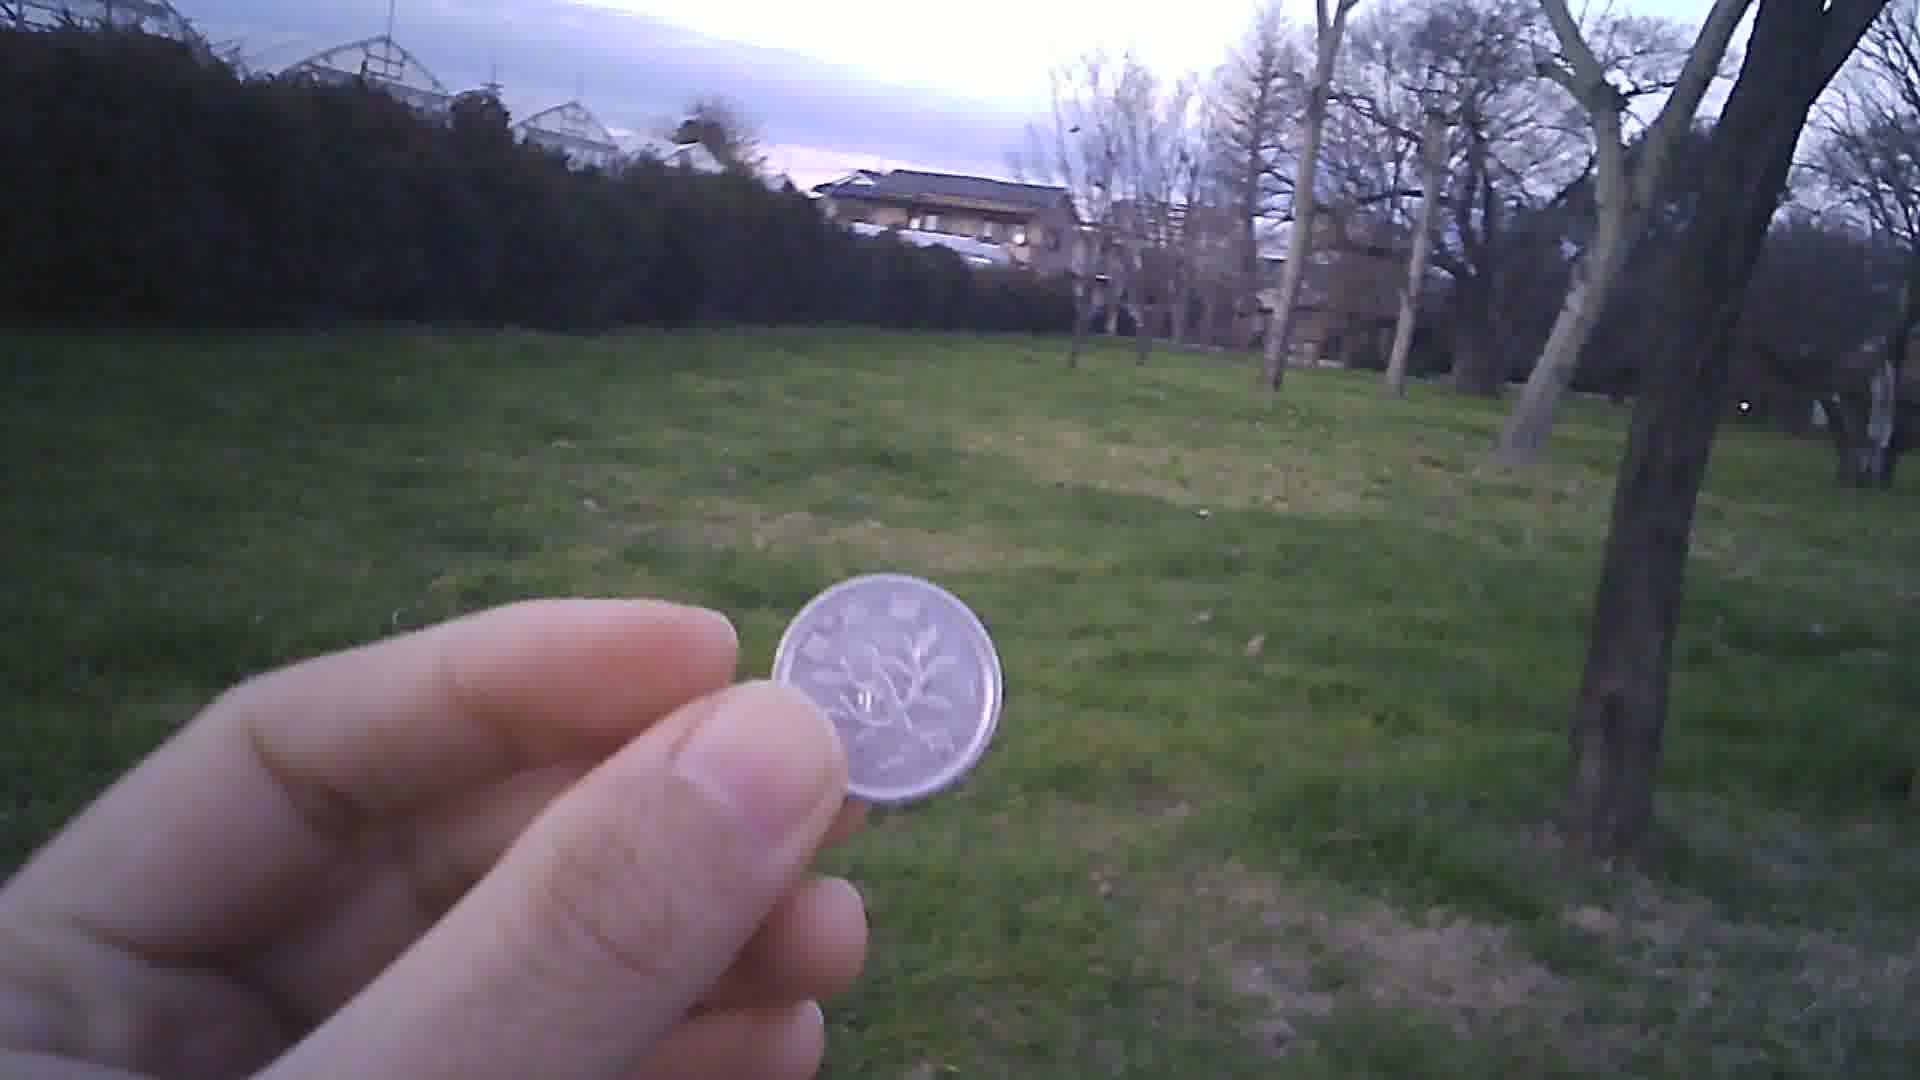1 Yen: (767, 558, 1007, 808)
